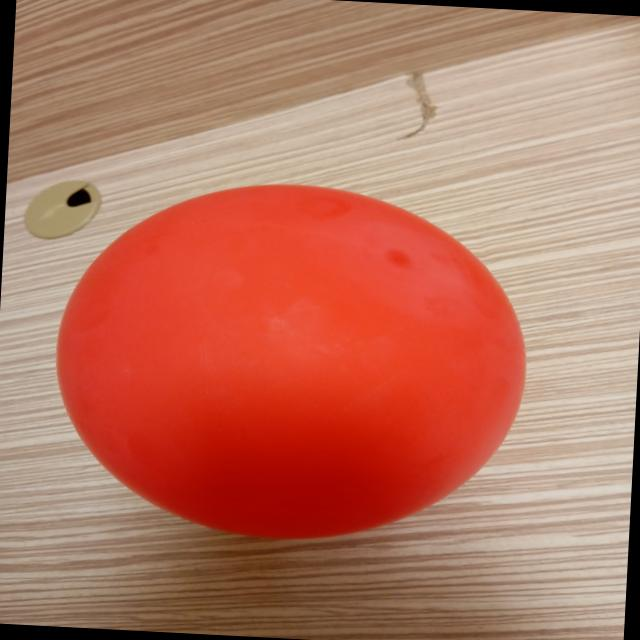balloon: (57, 185, 526, 539)
